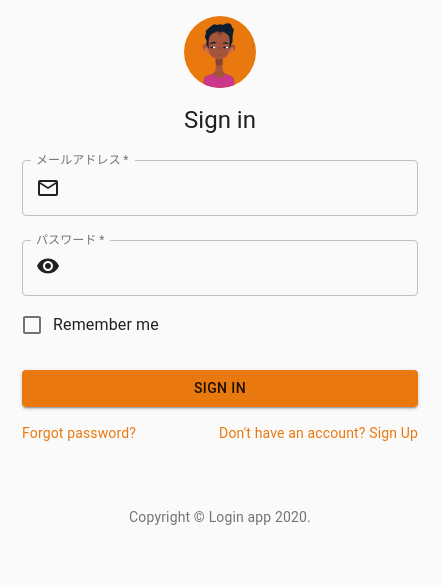
Test: ログイン › ログインに失敗し、エラーメッセージが表示される
This screenshot has width=441, height=587.
In the field named "email": (243, 188) [68,160,418,216], type "unauthorized_user@email.com"
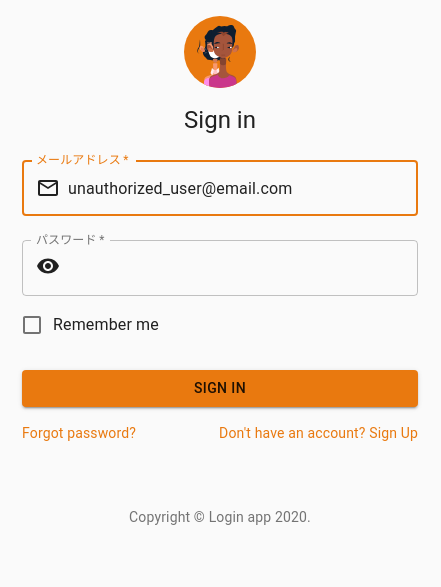
In the password field named "password": (243, 268) [68,240,418,296], type "a"
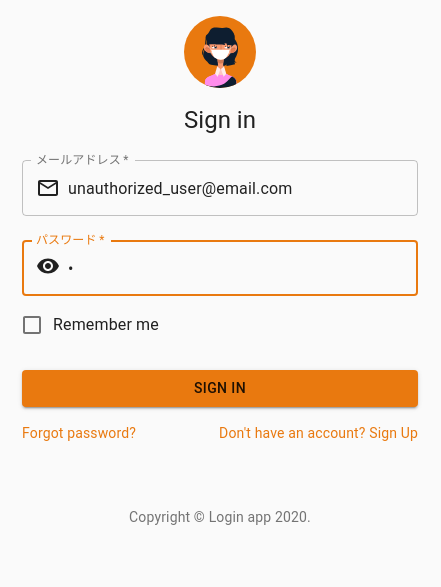
Click the button named "submit": (220, 389) [22,370,418,407]
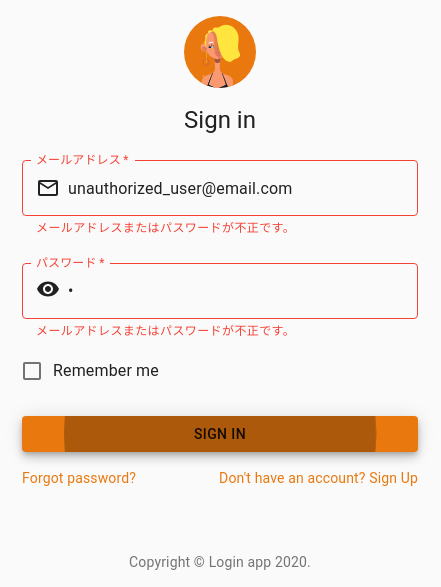
expect the 1st text "メールアドレスまたはパスワードが不正です。" is shown: met, box [36,221,295,235]
expect the 2nd text "メールアドレスまたはパスワードが不正です。" is shown: met, box [36,324,295,338]
